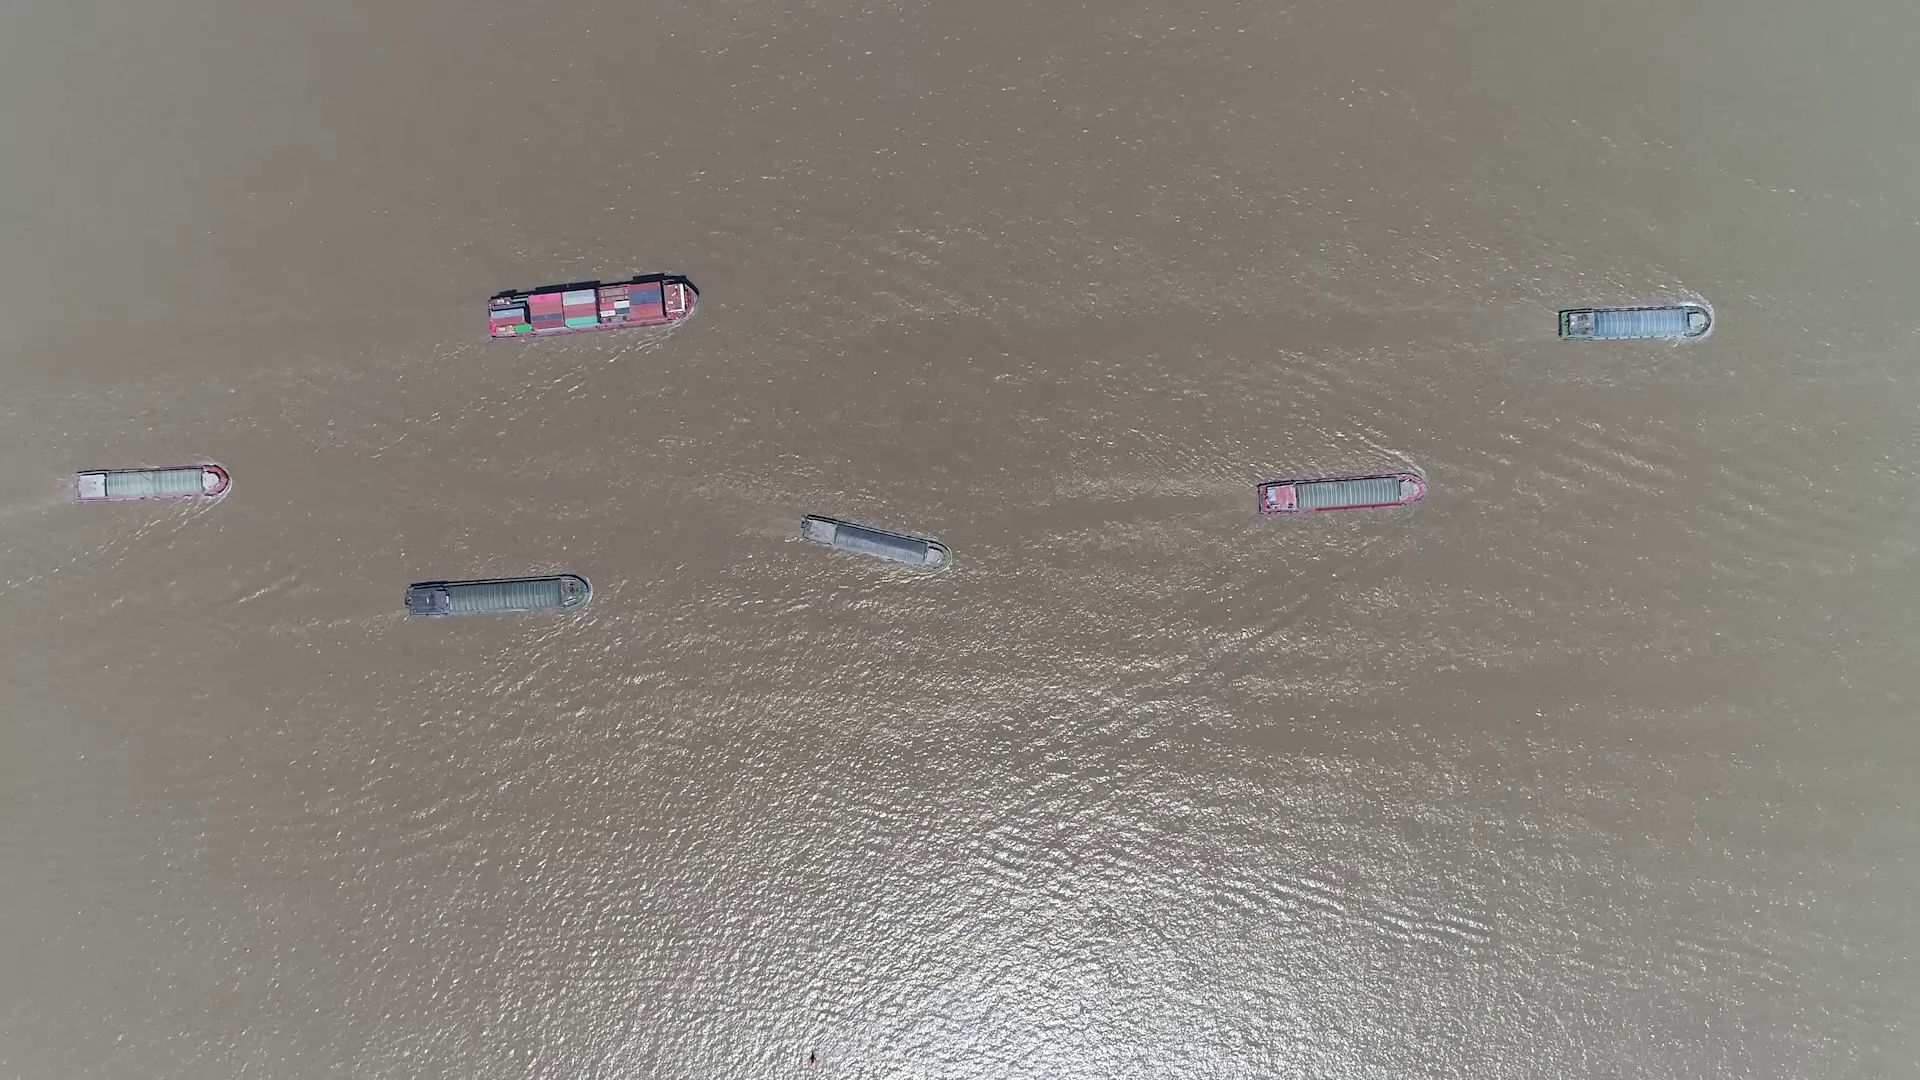ship: (485, 276, 698, 338), (799, 516, 948, 570), (406, 575, 589, 618), (1257, 472, 1428, 514), (71, 465, 229, 502), (1557, 306, 1710, 342)
